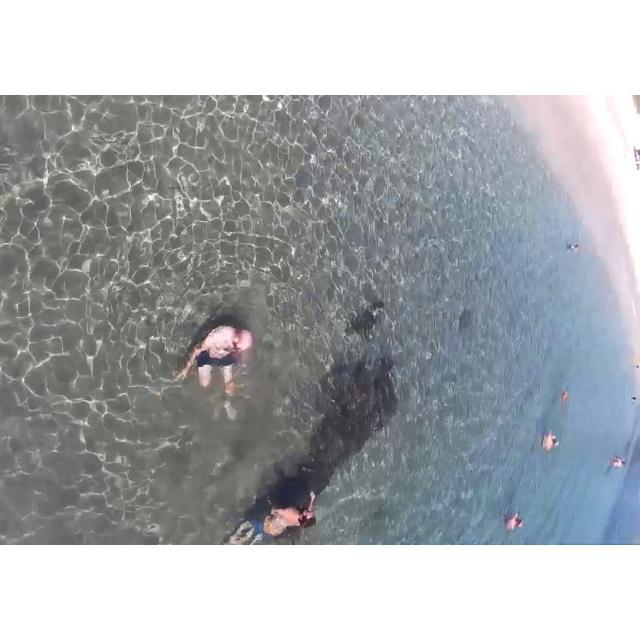human: (161, 288, 252, 433), (543, 423, 559, 467), (608, 451, 624, 477), (514, 503, 529, 529)
